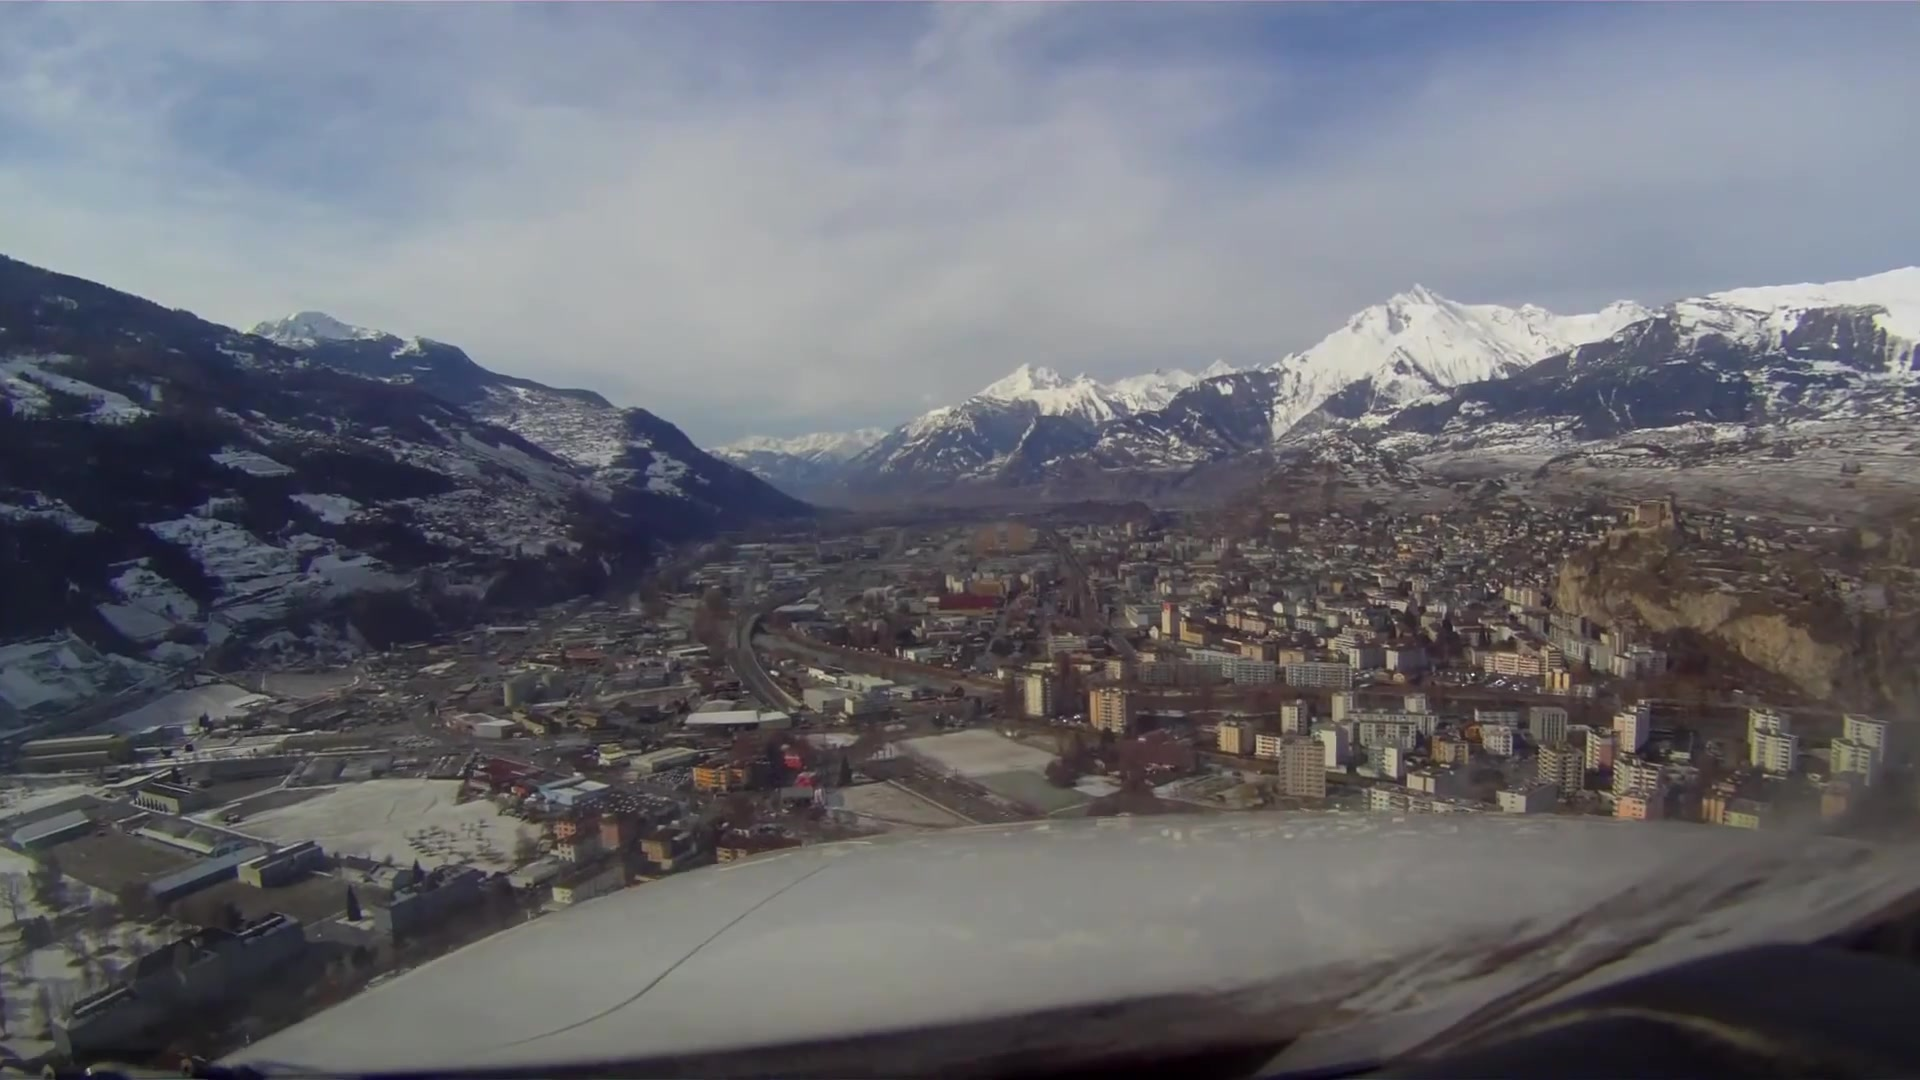runway: (994, 520, 1007, 549)
